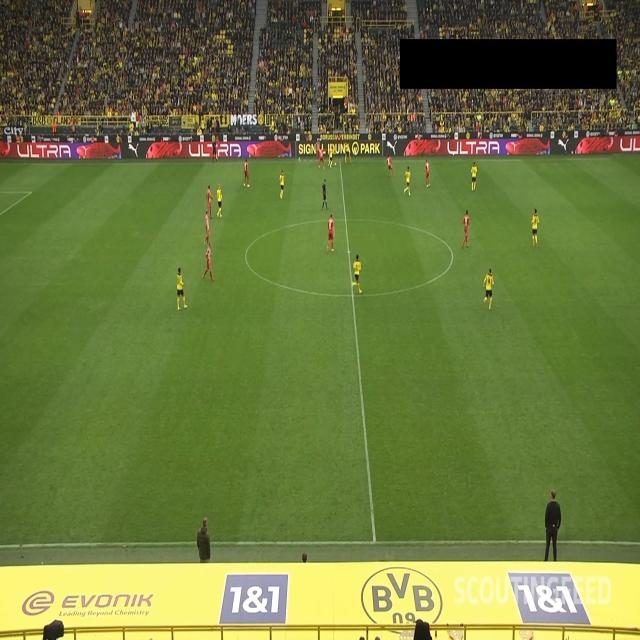ball: (334, 162, 337, 166)
